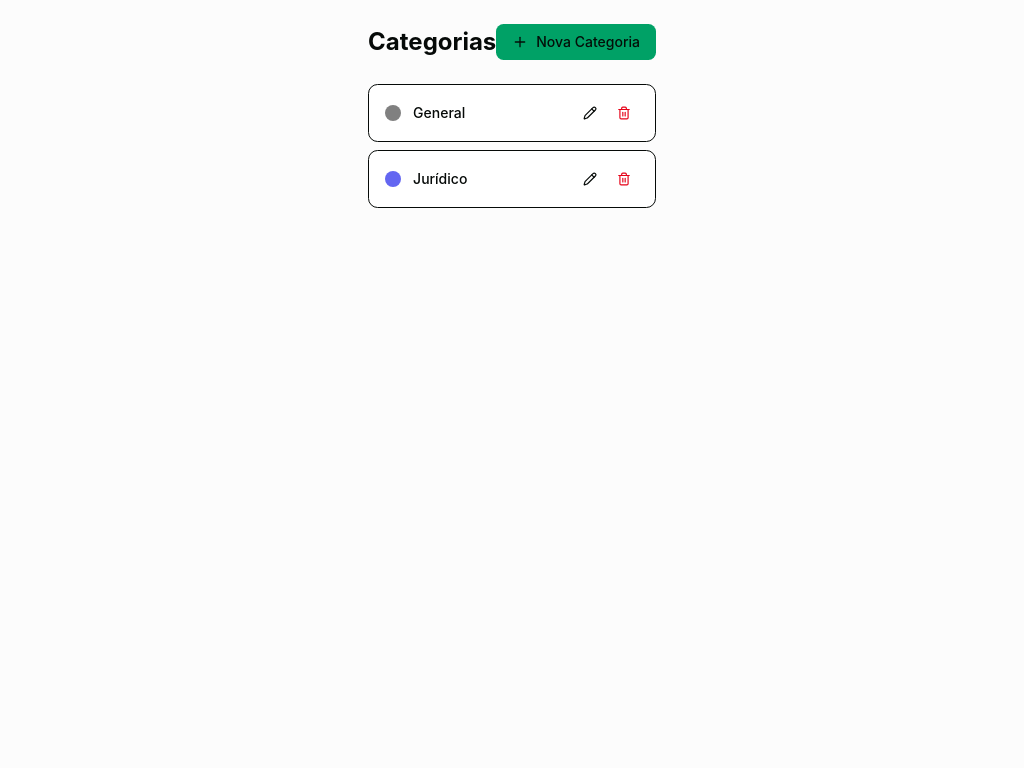
CategoriesPage › shows error on delete failure
Click the button with class "lucide-trash-2".
click(624, 113)  # box [609, 97, 639, 129]
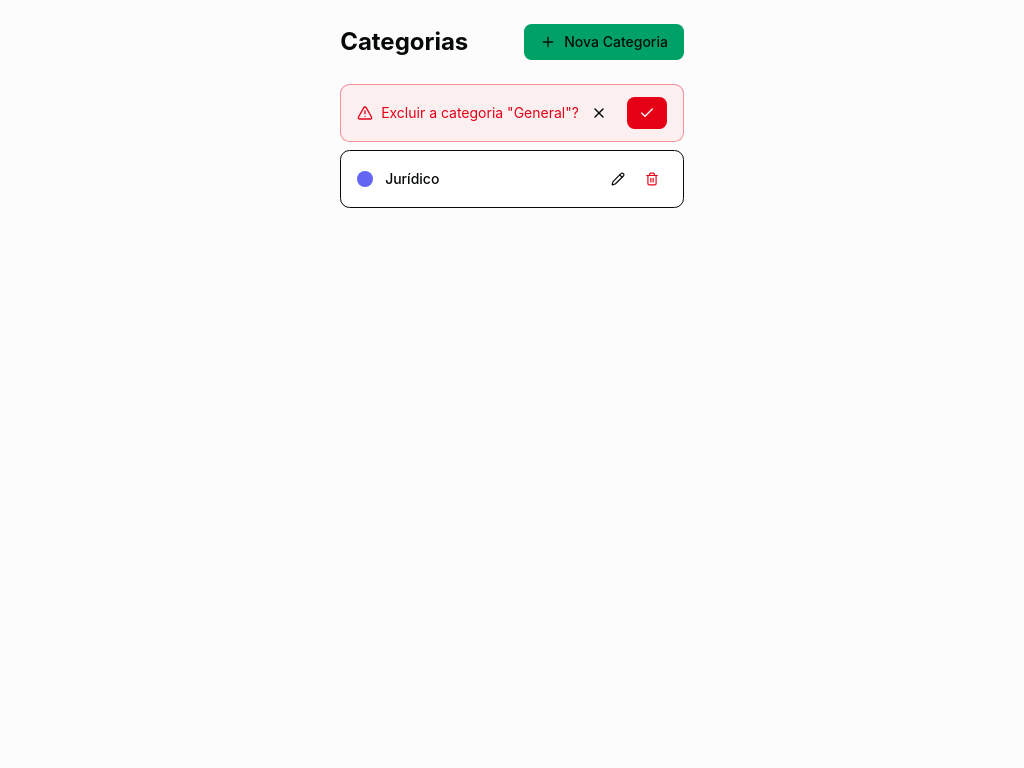
Click the button with class "lucide-trash-2".
click(647, 113)  # box [627, 97, 667, 129]
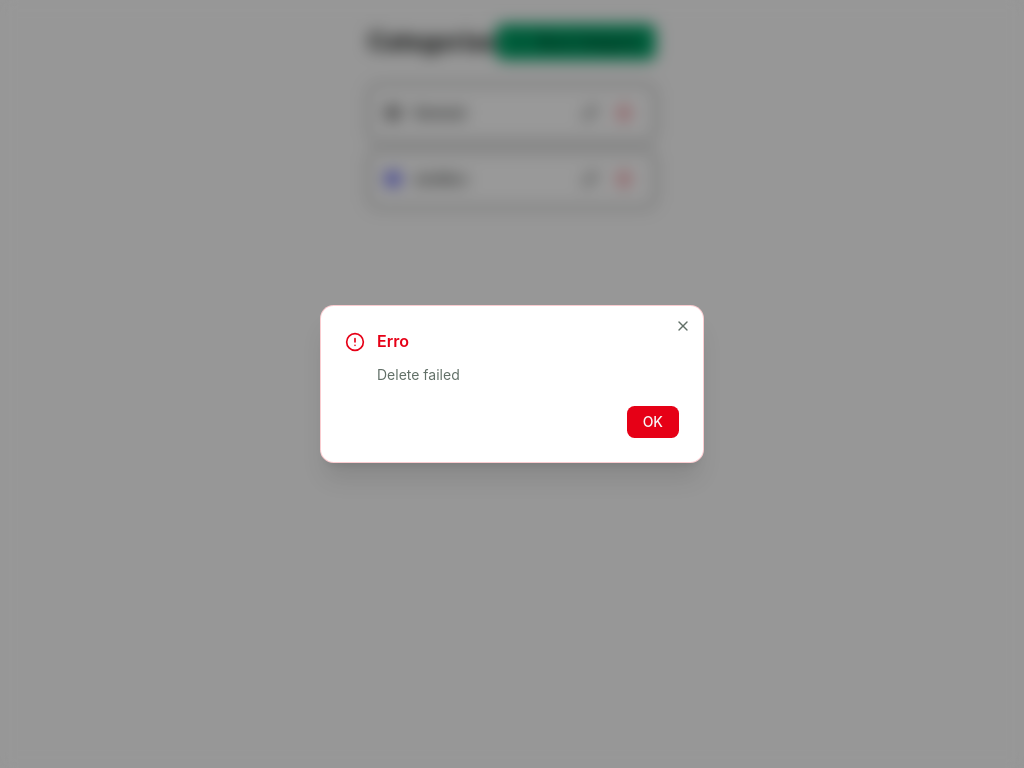
expect the text "Delete failed" is shown: met, box [377, 366, 460, 383]
